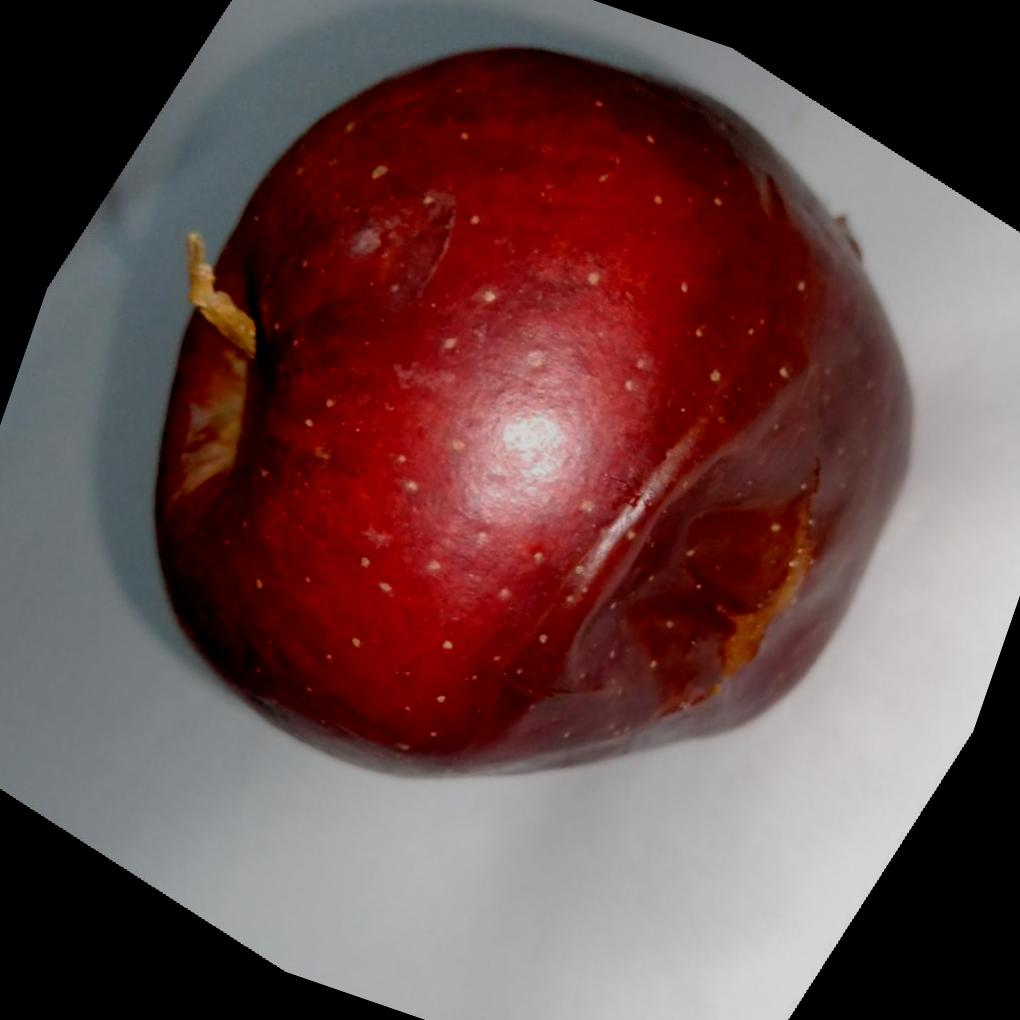FreshOrange: (154, 44, 918, 782)
